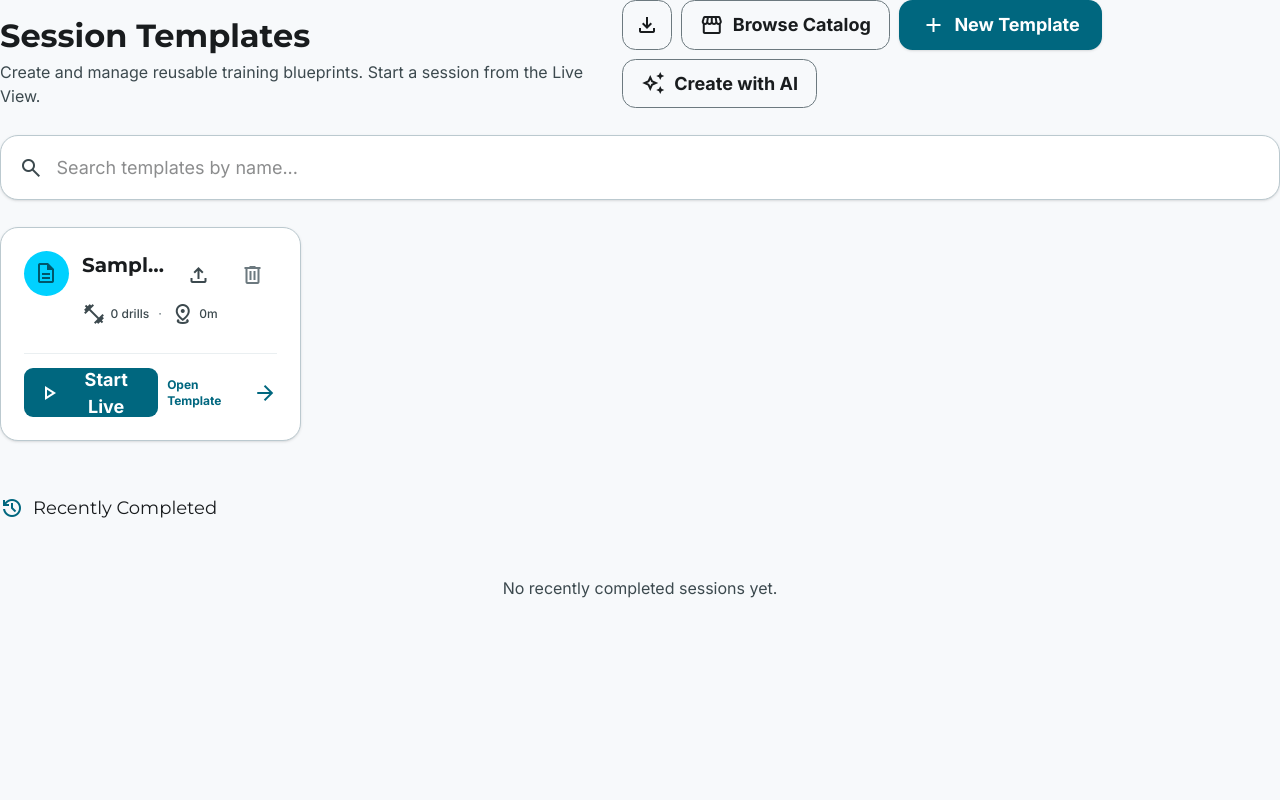
it: SessionsList import and export actions › renders an accessible import icon and opens the importer
Click the button named "Import session": click(647, 25) [622,0,672,50]
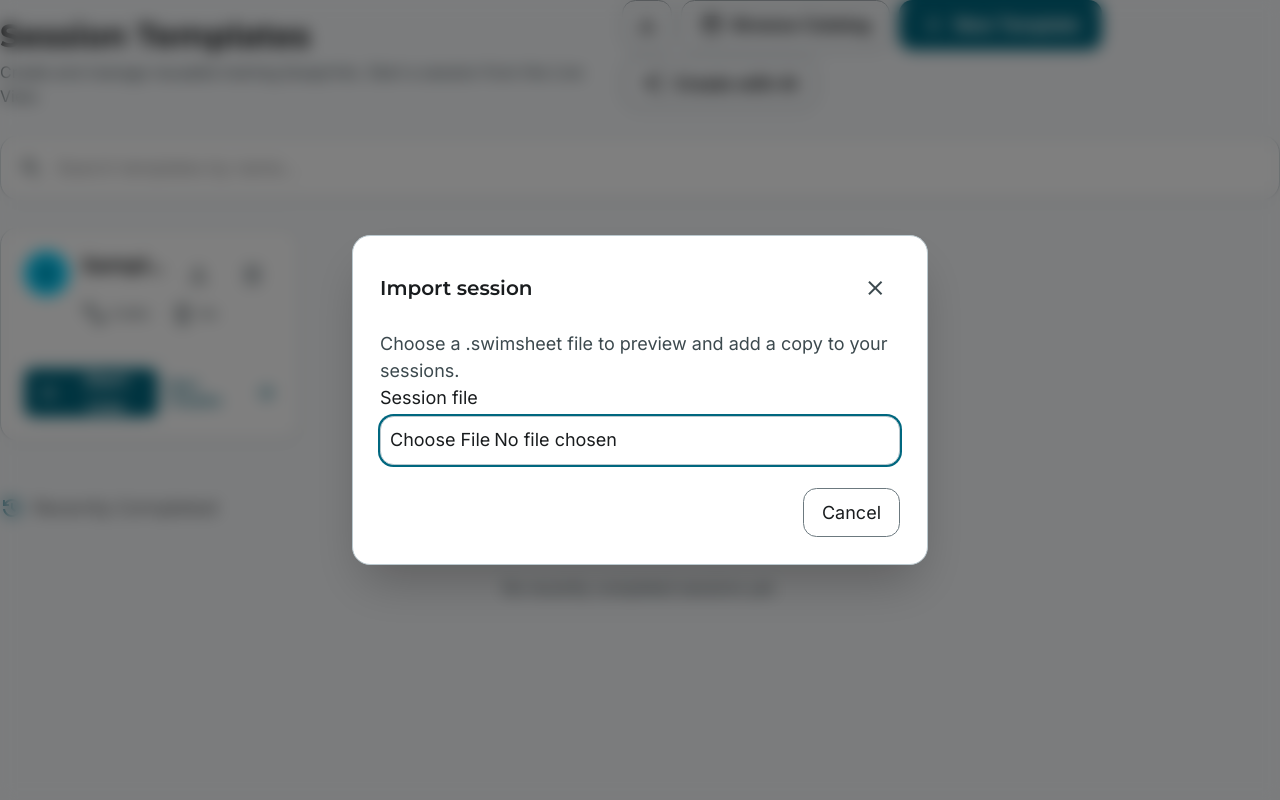
Expected: the dialog "Import session" is shown, [352,235,928,565]
